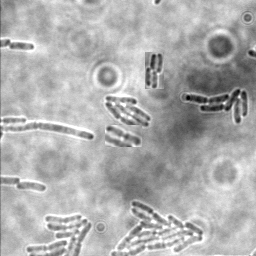Dividing: (1, 123, 95, 142), (105, 125, 142, 147), (8, 41, 35, 52)
Microcolony: (109, 200, 205, 255), (25, 212, 94, 255), (184, 89, 248, 126), (103, 96, 150, 132), (145, 52, 164, 89), (16, 182, 48, 193)
